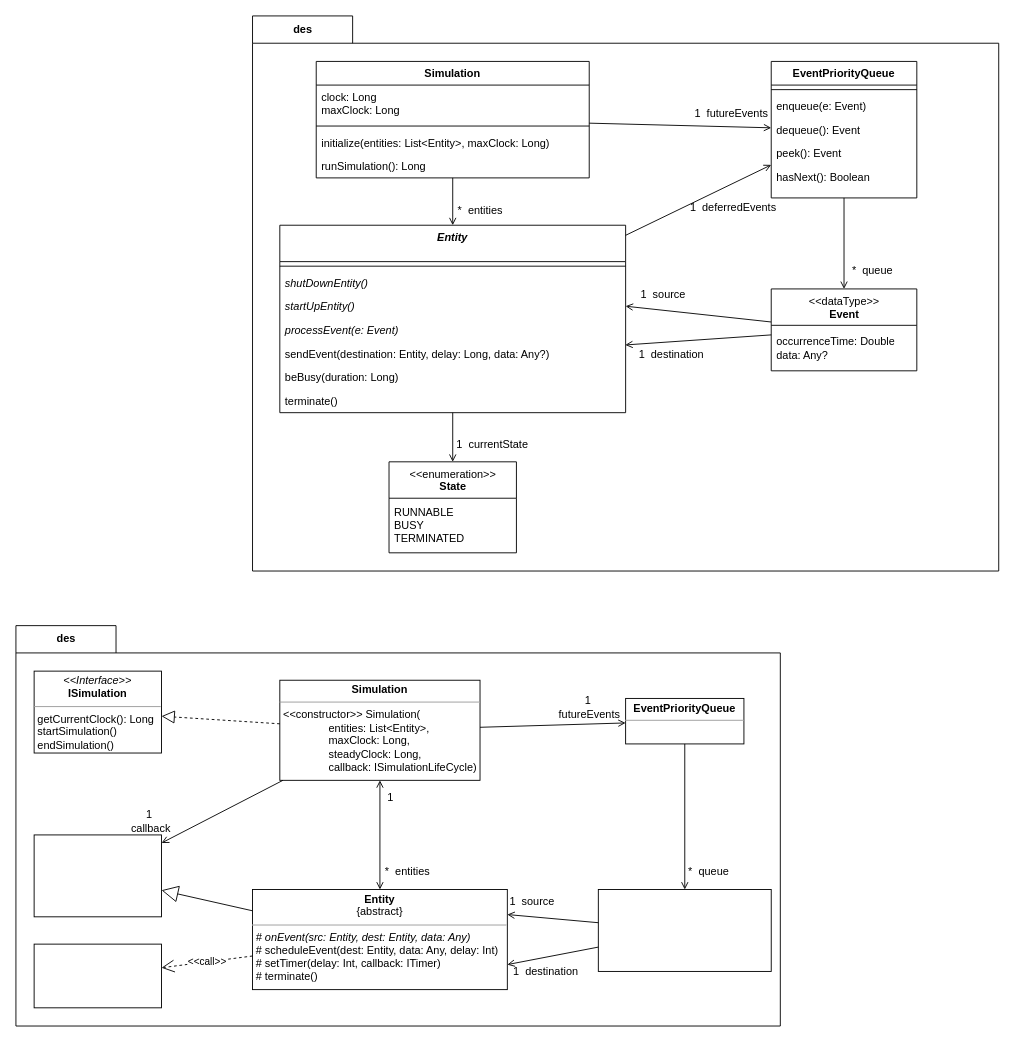
This 1015x1042 diagram has some shape labels left out. Here are the shapes that lost their labels. From the top down, the centre of each, then its label:
At pixel 97 875: "<<Interface>> ISimulationLifeCycle onStartUp() onSteadyState() onShutDown()".
At pixel 684 930: "<<dataType>> Event eventNumber: Int occurenceTime: Long data: Any".
At pixel 97 975: "<<Interface>> ITimer onTimerExpired()".
